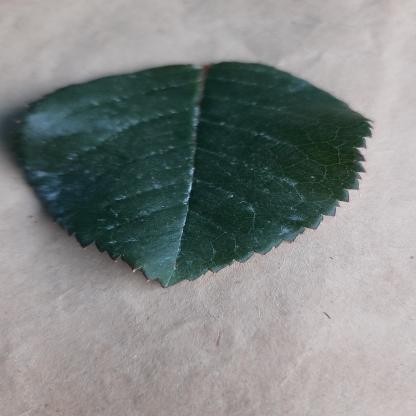normal: (16, 62, 378, 286)
